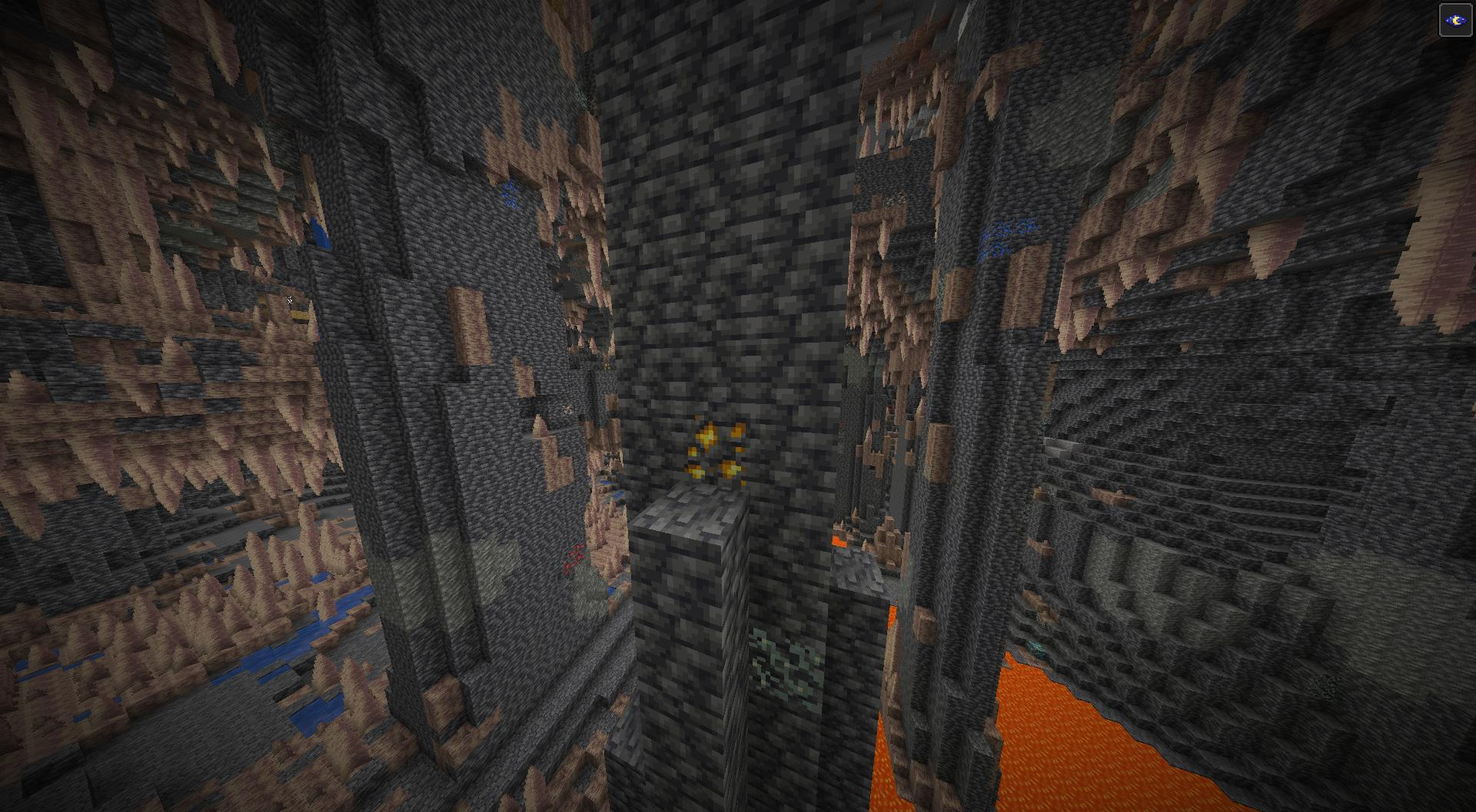gold ore: (681, 412, 752, 487)
iron ore: (561, 401, 577, 418)
redstone ore: (559, 540, 592, 581)
